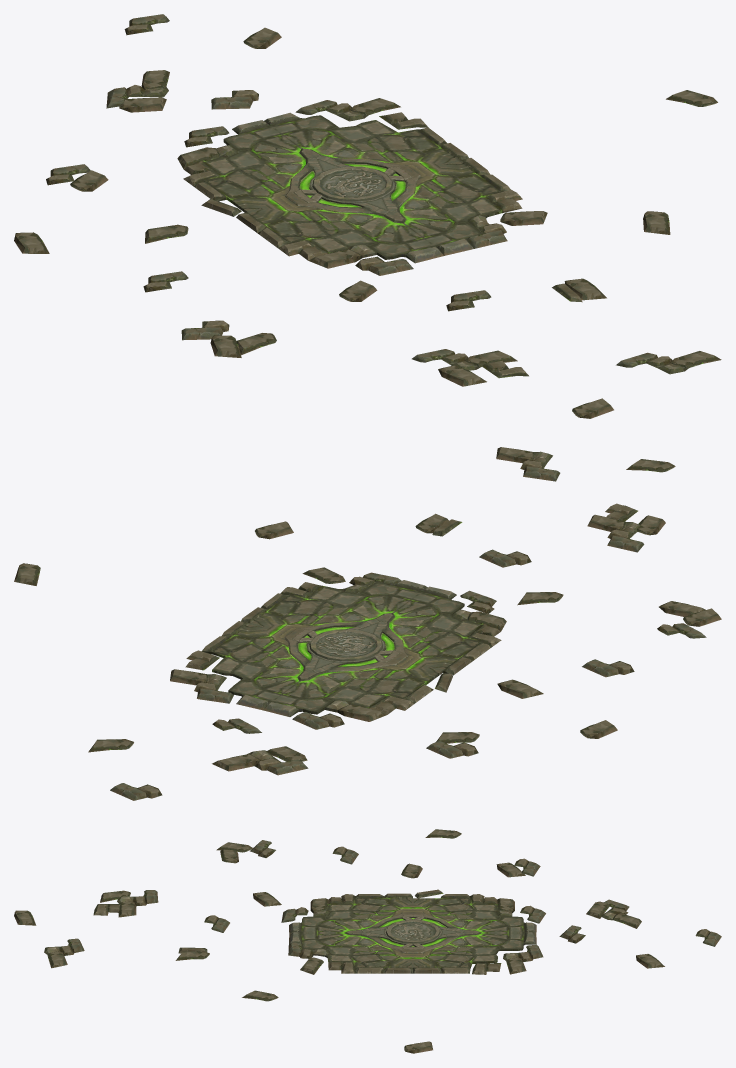
File: 5006_Item_taizi_1.FBX
3 views of the same model, one above another, from view 1: azimuth 30°, elevation 25°; view 2: azimuth 150°, elevation 25°; view 3: azimuth 270°, elevation 25° (orthographic). The views are drawn at different scales.
Parts seen in each view (by area): view 1: 5006_Item_taizi_1; view 2: 5006_Item_taizi_1; view 3: 5006_Item_taizi_1.
Boxes of the visible parts, x1,y1,x2,y2 form: 5006_Item_taizi_1: (14, 14, 721, 418); 5006_Item_taizi_1: (14, 447, 721, 800); 5006_Item_taizi_1: (14, 829, 721, 1053).
Bounding box in the file's own units: 320 × 2.74 × 431.
